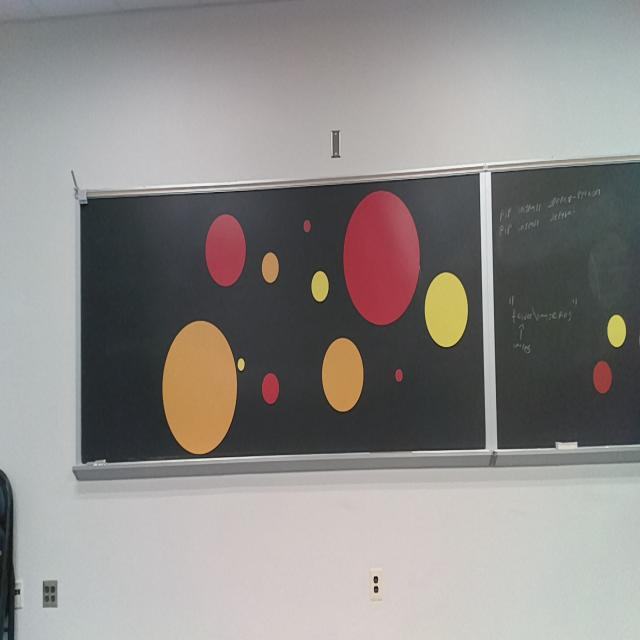Orange: (161, 319, 238, 455), (321, 336, 364, 412), (261, 251, 279, 283)
Red: (342, 188, 419, 324), (205, 213, 248, 289), (593, 360, 612, 394), (262, 372, 280, 405), (303, 219, 312, 234), (395, 368, 403, 383)
Yellow: (424, 269, 469, 347), (607, 313, 626, 348), (311, 269, 329, 302), (237, 357, 245, 371)
